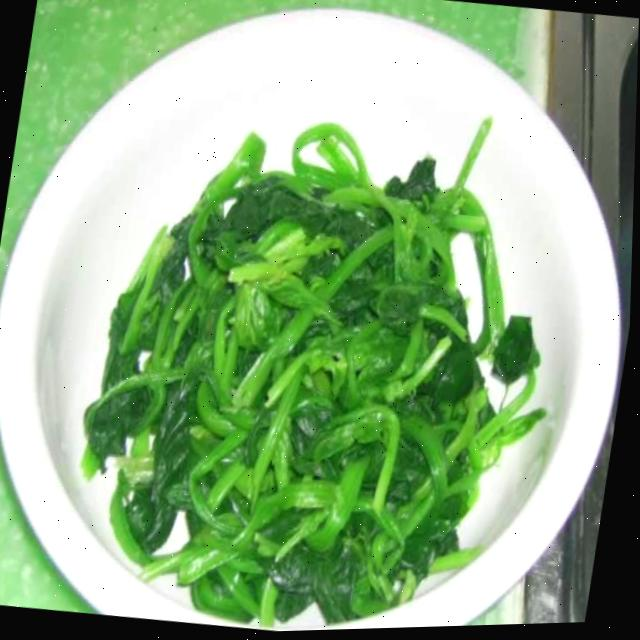蔬菜料理: (29, 24, 621, 639)
